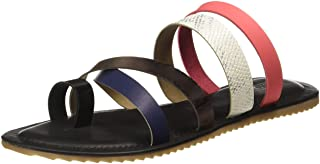shoes: (1, 2, 320, 163)
